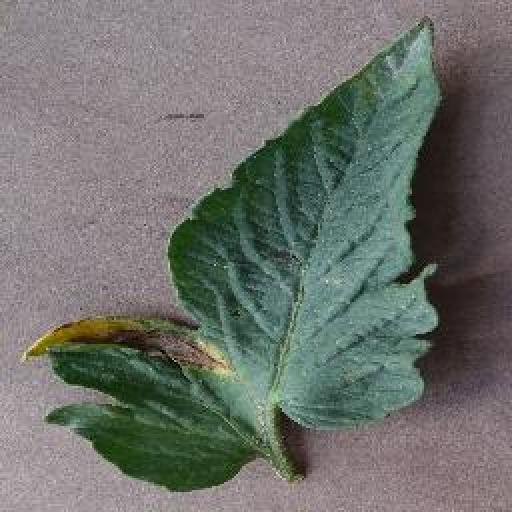Early Blight: (26, 17, 443, 483)
